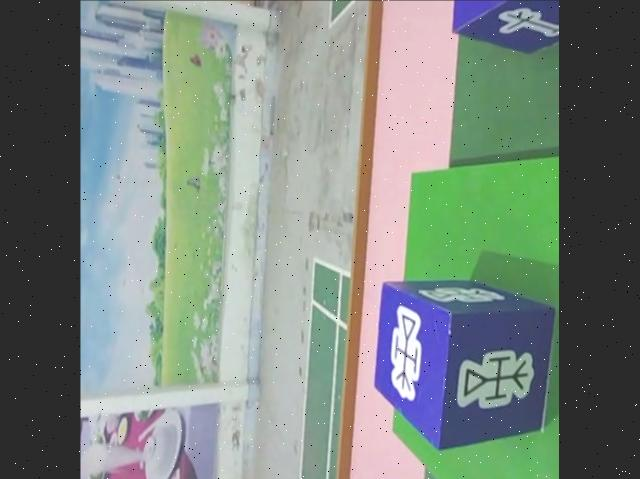R2 Real Blue: (368, 276, 560, 447), (454, 0, 559, 51)
